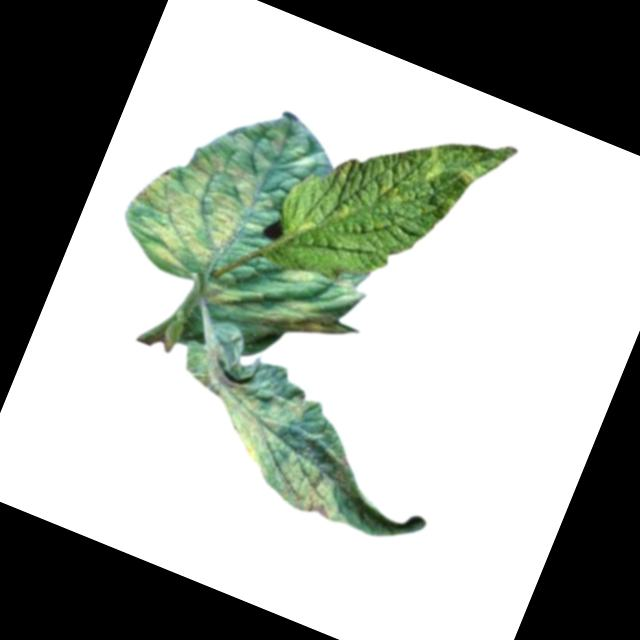Leaf_Mold: (155, 340, 389, 528), (109, 75, 285, 292), (251, 252, 370, 357), (413, 134, 491, 199)
